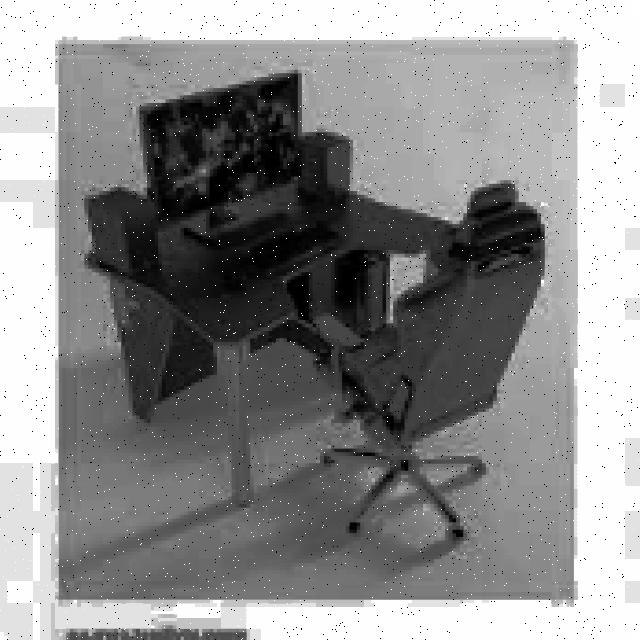book: (313, 180, 548, 541)
table: (88, 177, 460, 508)
